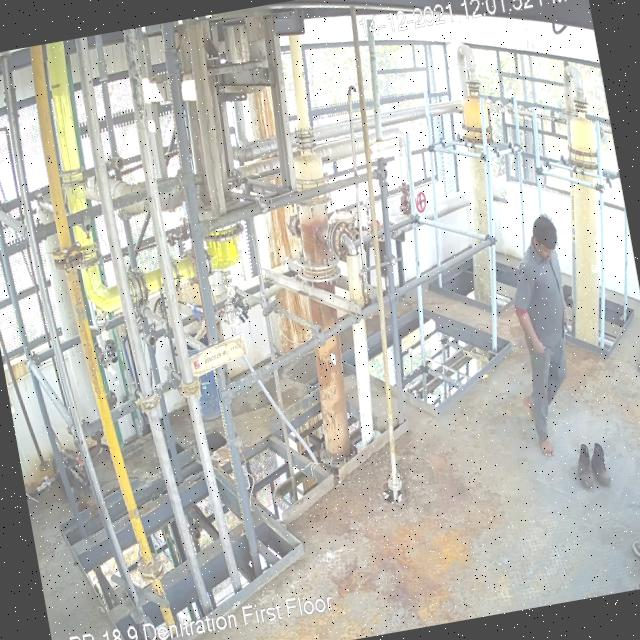boots: (584, 437, 618, 496), (568, 441, 596, 490)
no-boots: (532, 426, 556, 458)
